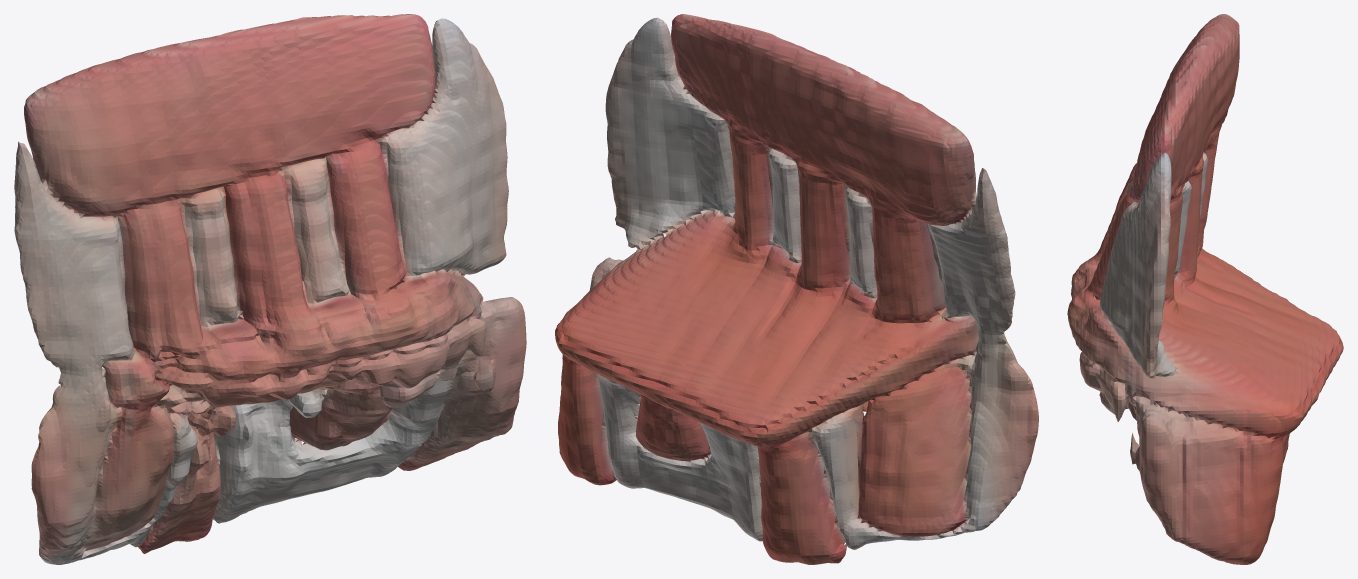
Rendered from tmpi3rtdi2x.glb.
3 views of the same model, side by side, from view 1: azimuth 30°, elevation 25°; view 2: azimuth 150°, elevation 25°; view 3: azimuth 270°, elevation 25° (orthographic). The views are drawn at different scales.
Parts seen in each view (by area): view 1: world; view 2: world; view 3: world.
Part boxes in pixels (left/top/right/bottom): world: left=14, top=14, right=526, bottom=564; world: left=555, top=14, right=1038, bottom=564; world: left=1067, top=14, right=1343, bottom=564.
Bounding box in the file's own units: 0.8944 × 0.928 × 0.525.
